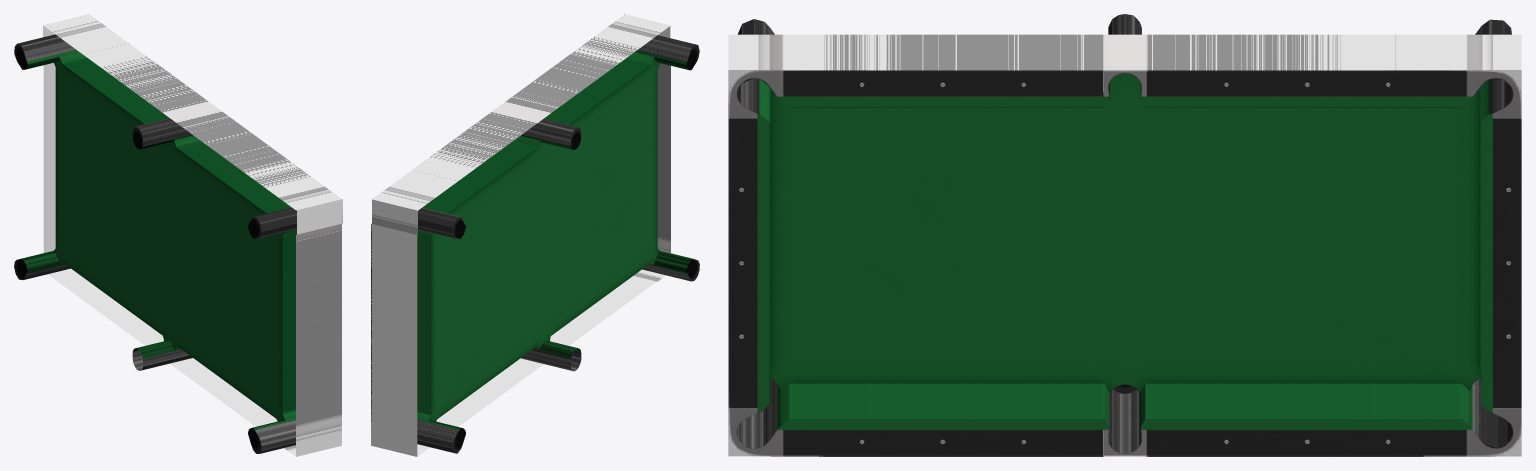
Rendered from PoolTableMesh2.fbx.
3 renders of one model, left to right at view 1: azimuth 30°, elevation 25°; view 2: azimuth 150°, elevation 25°; view 3: azimuth 270°, elevation 25°, orthographic. The views are drawn at different scales.
Parts seen in each view (by area): view 1: PoolTable.001, PoolTable; view 2: PoolTable.001, PoolTable; view 3: PoolTable.001, PoolTable.
Boxes of the visible parts, x1,y1,x2,y2 form: PoolTable.001: (14,44,284,453); PoolTable: (17,14,342,456); PoolTable.001: (428,44,699,453); PoolTable: (371,14,696,456); PoolTable.001: (762,73,1485,393); PoolTable: (728,14,1521,456).
Bounding box in the file's own units: 33.35 × 100 × 186.
